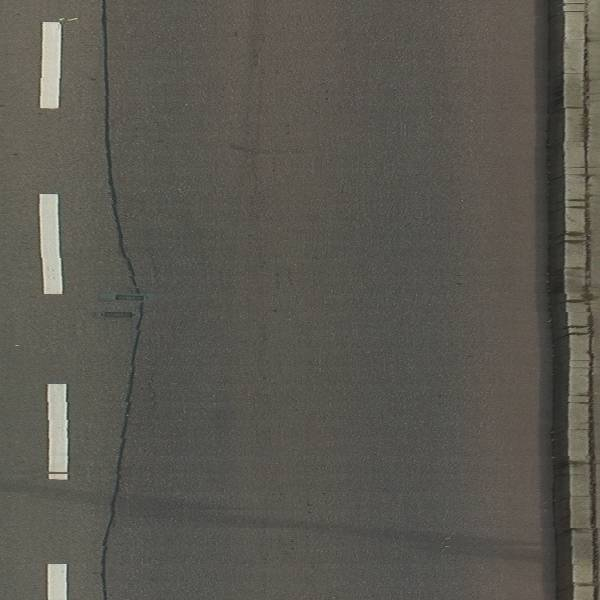road_damage: (95, 325, 152, 597)
